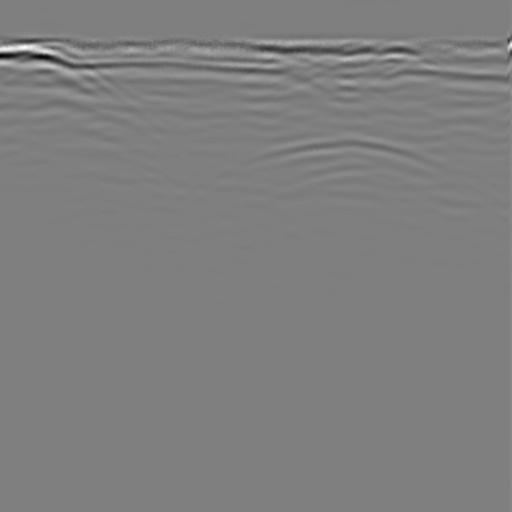hyperbola: (218, 121, 470, 231)
